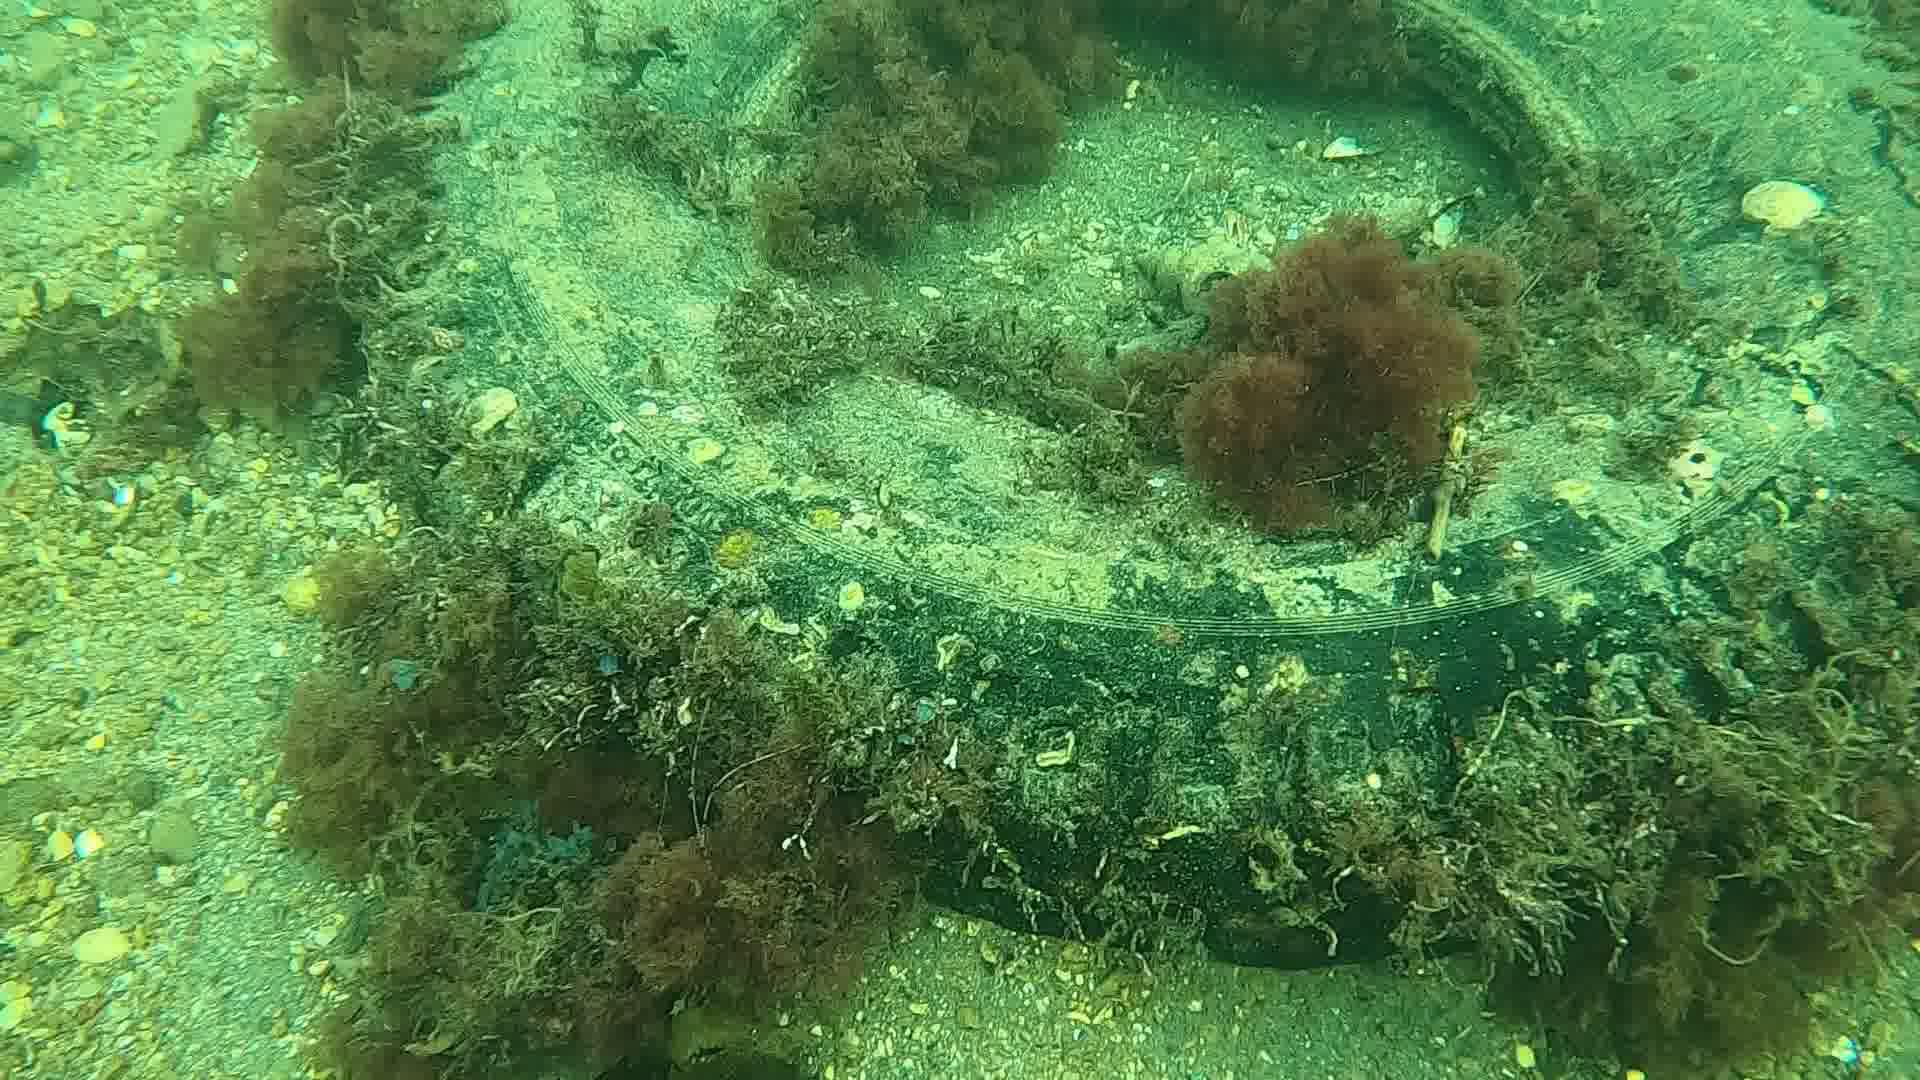tire: (375, 0, 1920, 963)
